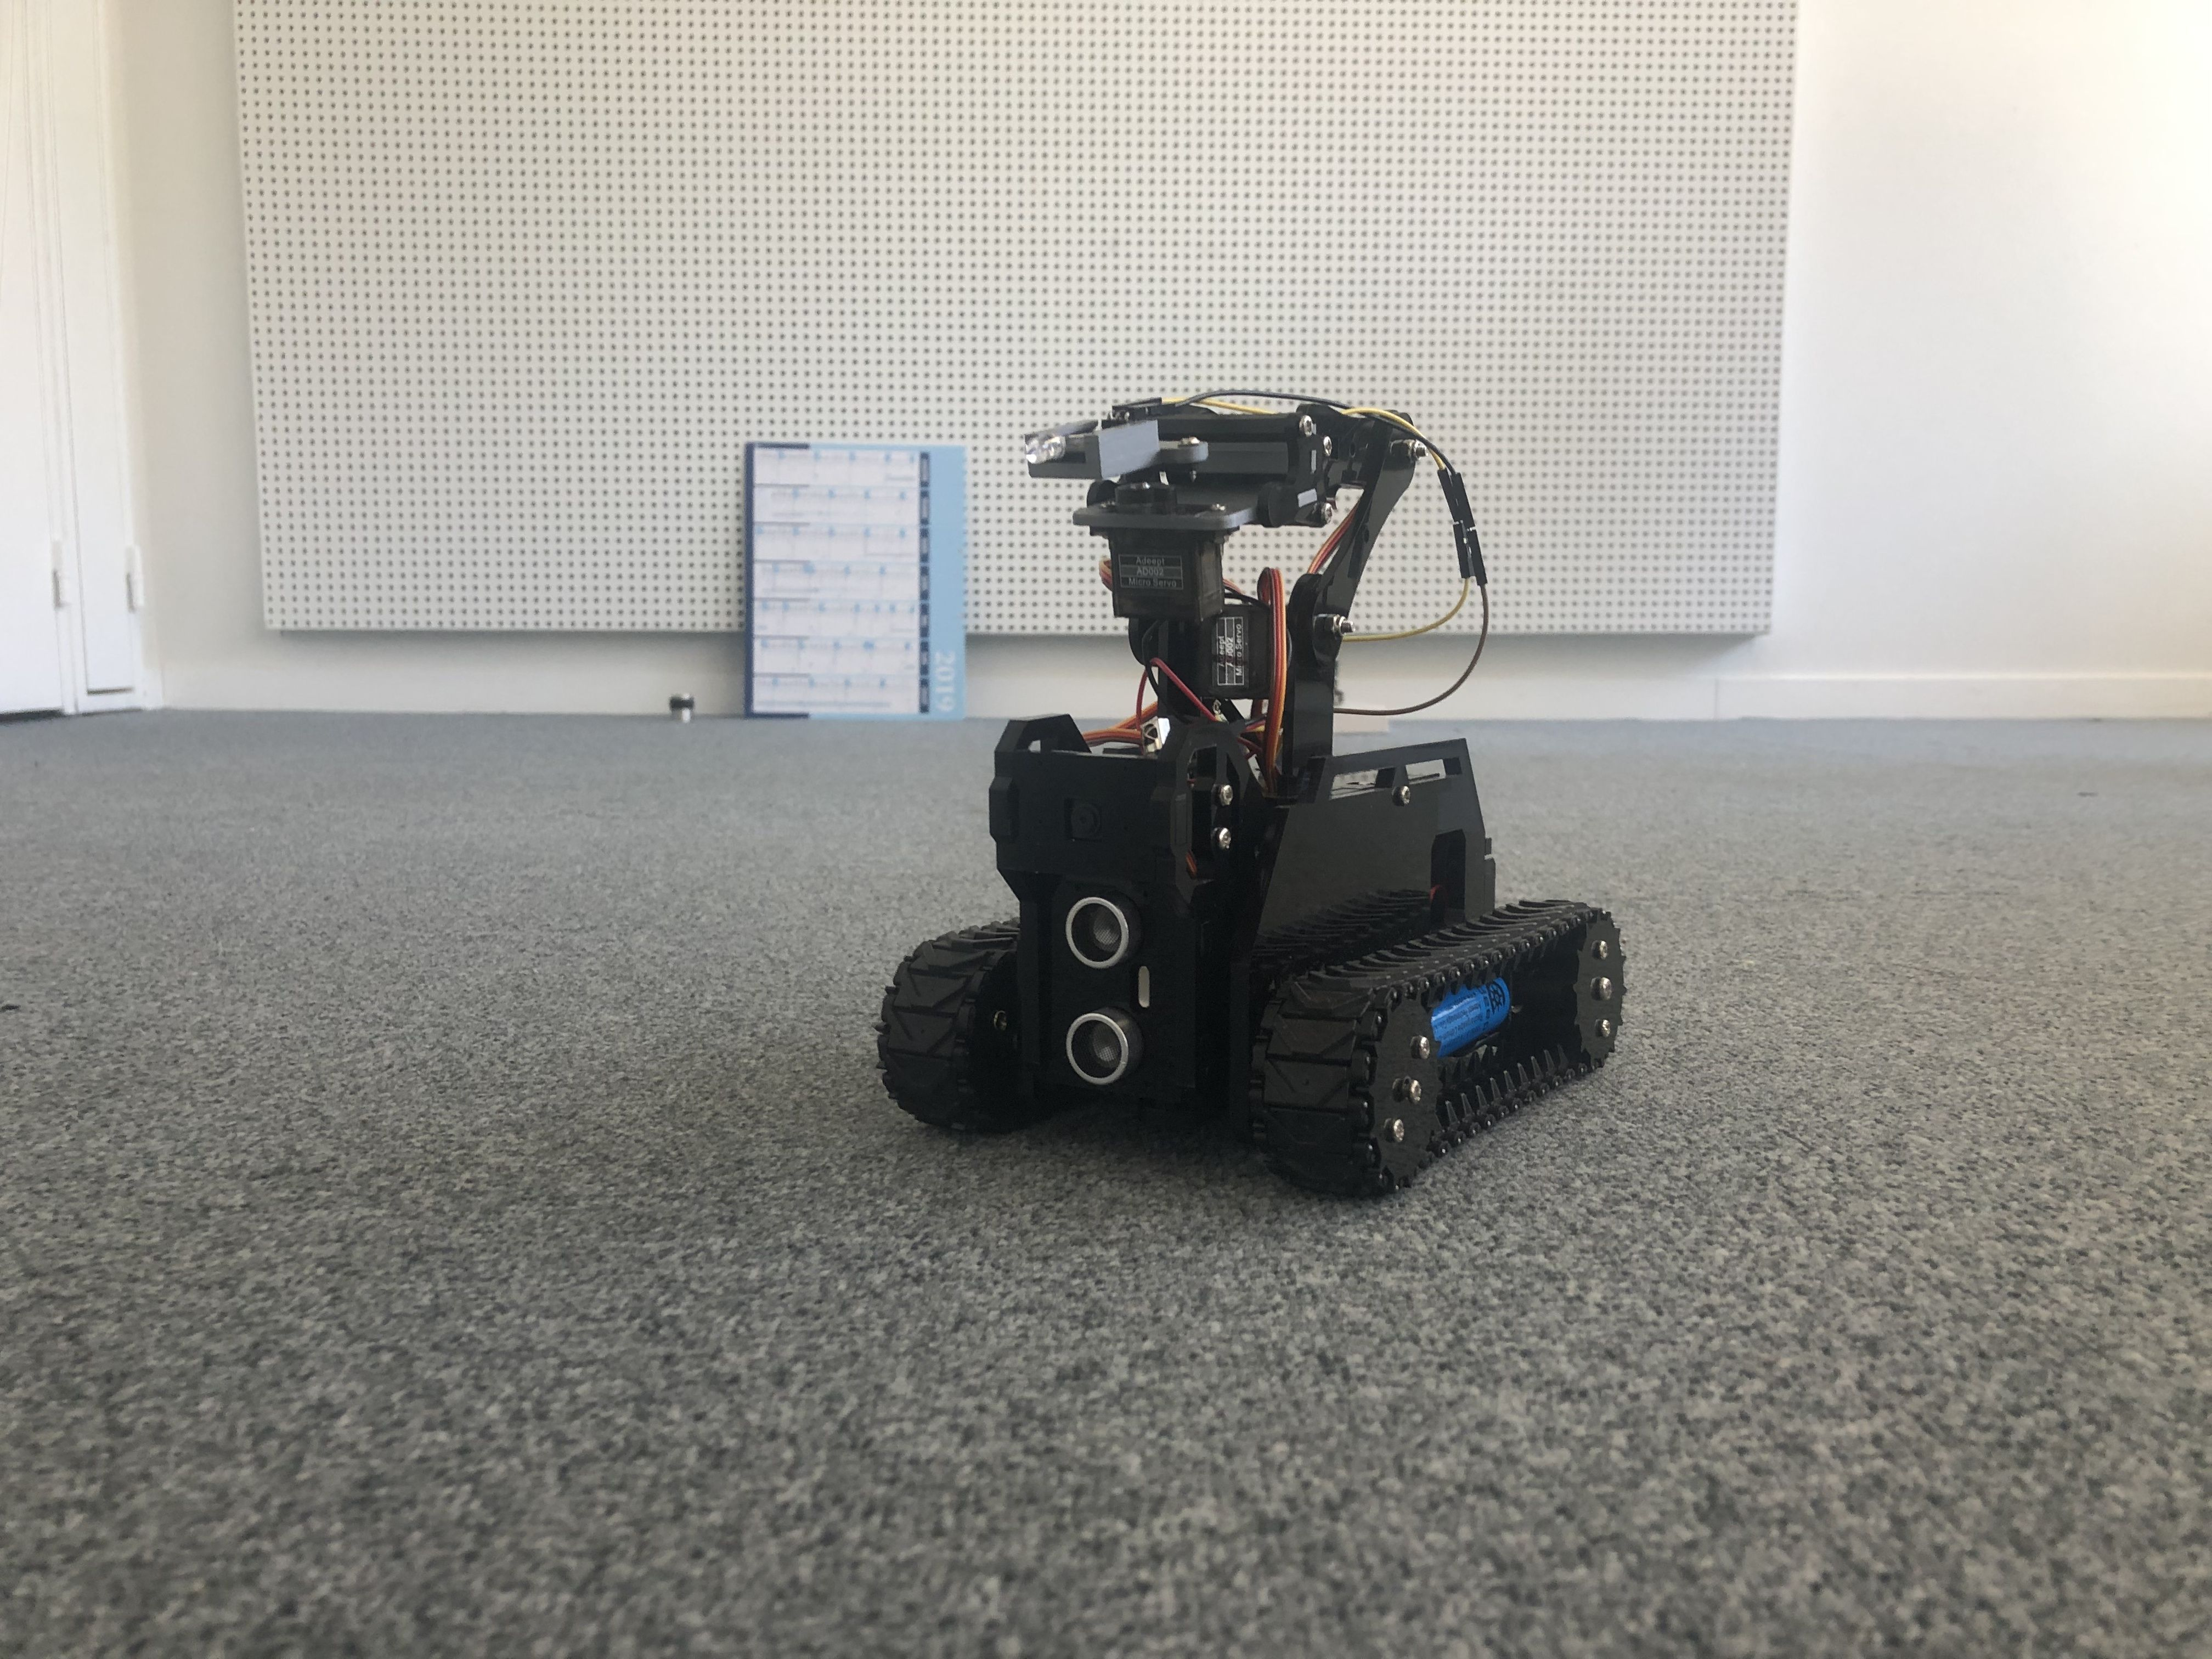rasptank: (860, 373, 1637, 1202)
